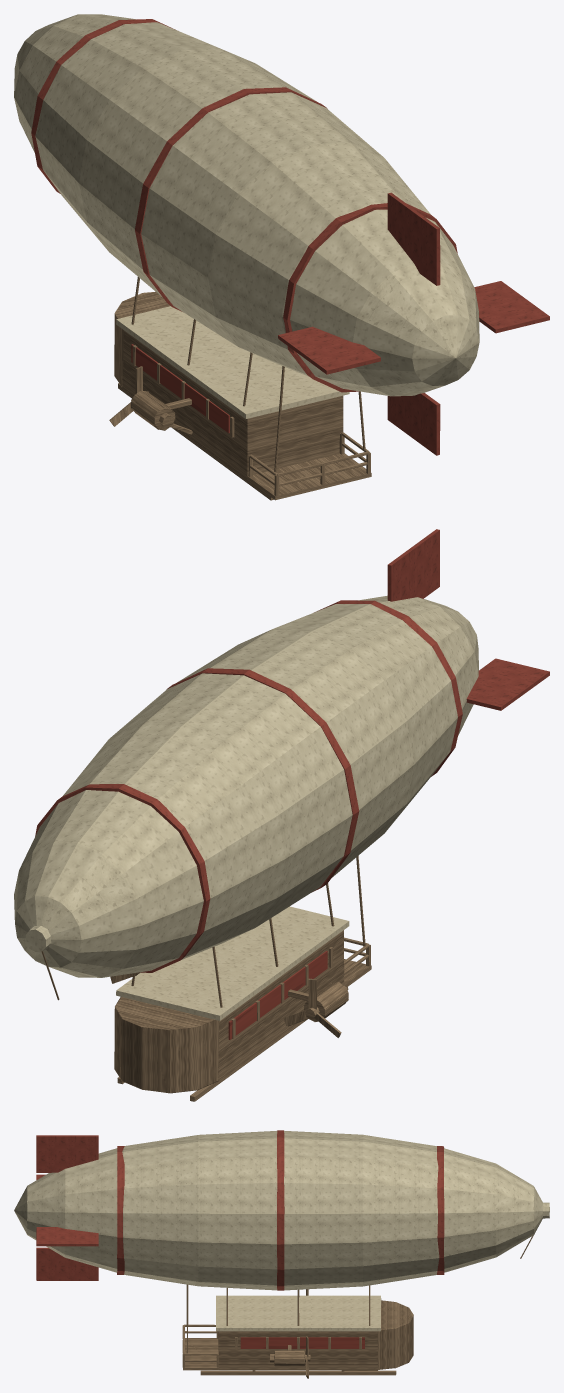
Rendered from zeppelin.glb.
3 views of the same model, one above another, from view 1: azimuth 30°, elevation 25°; view 2: azimuth 150°, elevation 25°; view 3: azimuth 270°, elevation 25° (orthographic). The views are drawn at different scales.
Visible parts, largest first — view 1: Zeppelin; view 2: Zeppelin, Propeller; view 3: Zeppelin.
Part boxes in pixels (left/top/right/bottom): Zeppelin: left=14, top=14, right=549, bottom=500; Zeppelin: left=14, top=529, right=549, bottom=1101; Propeller: left=284, top=978, right=341, bottom=1037; Zeppelin: left=14, top=1130, right=549, bottom=1375.
Bounding box in the file's own units: 5.38 × 7.91 × 16.9.
4 materials, 4 textured.
